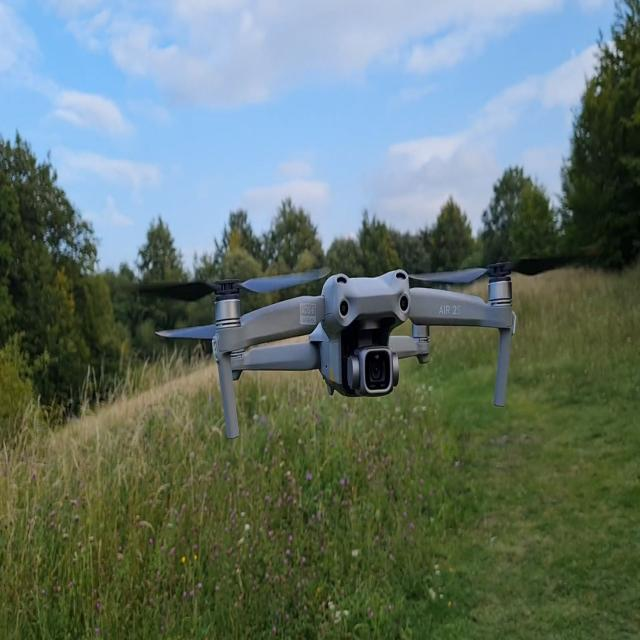drone: (120, 248, 598, 441)
